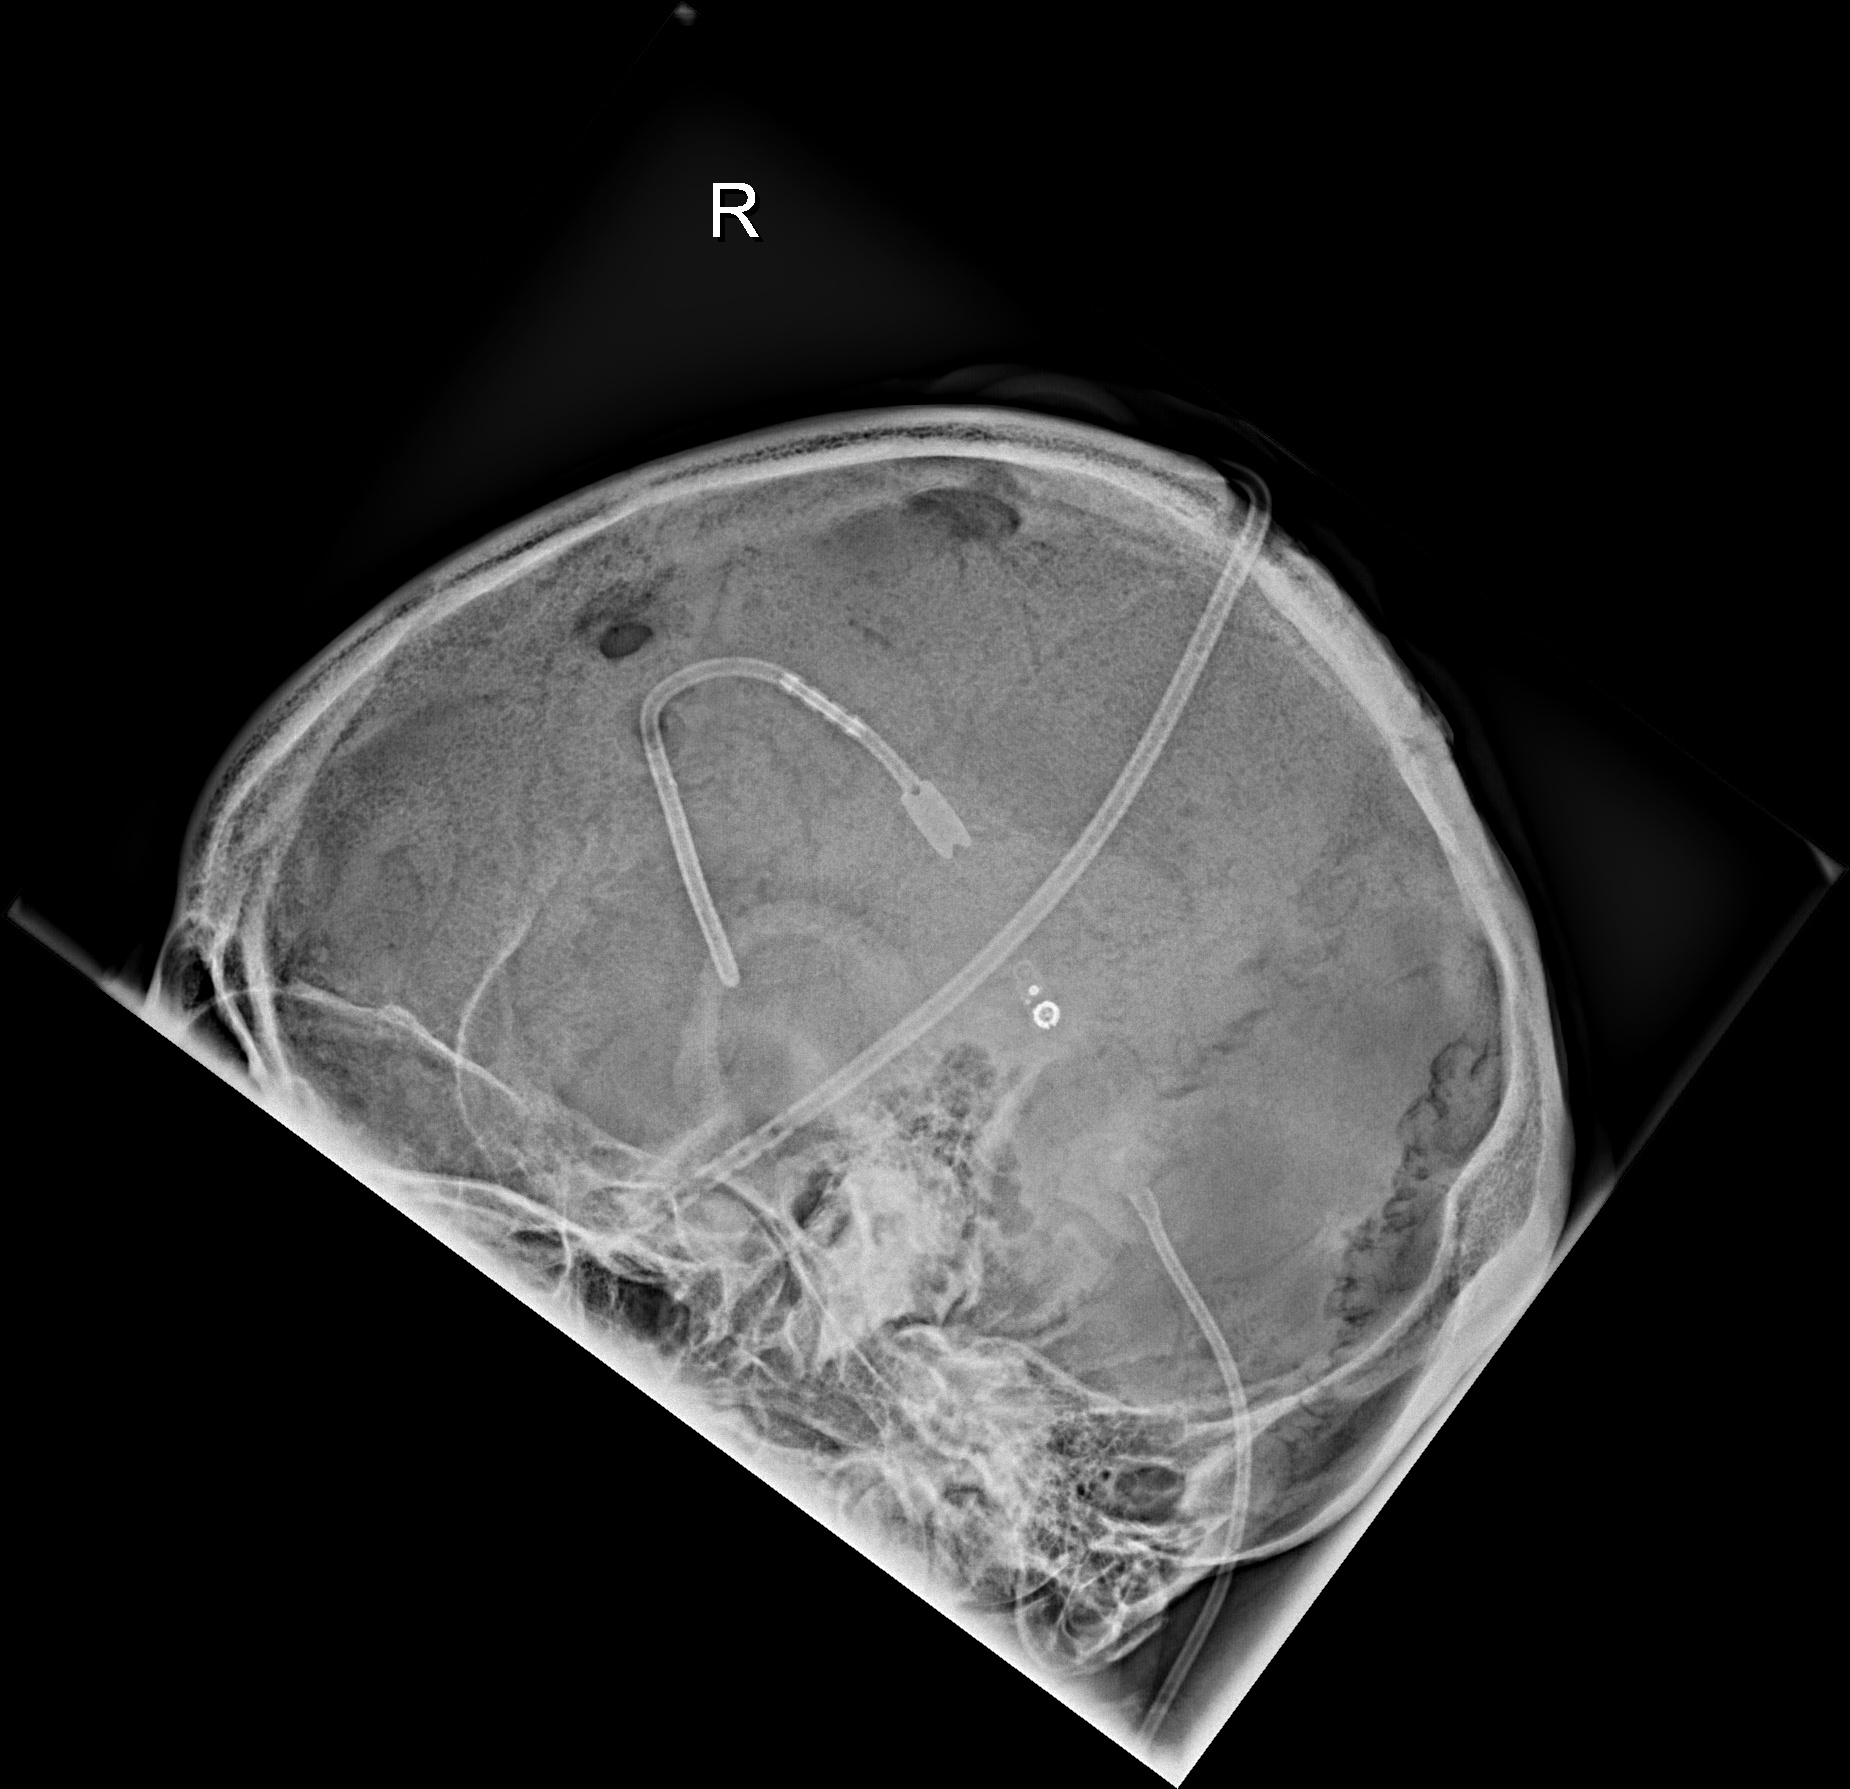Codman Hakim: (1014, 975, 1074, 1052)
